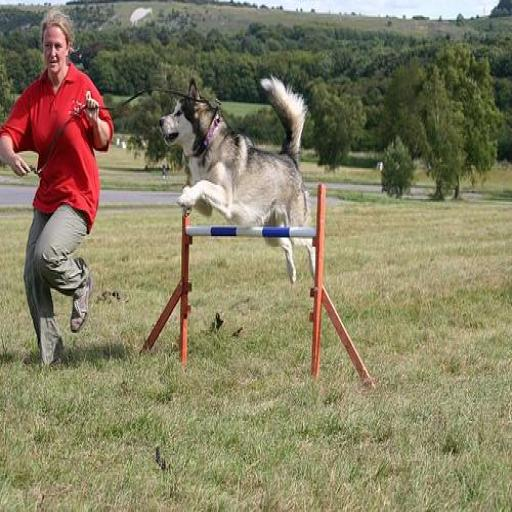dog_face: (162, 84, 216, 155)
